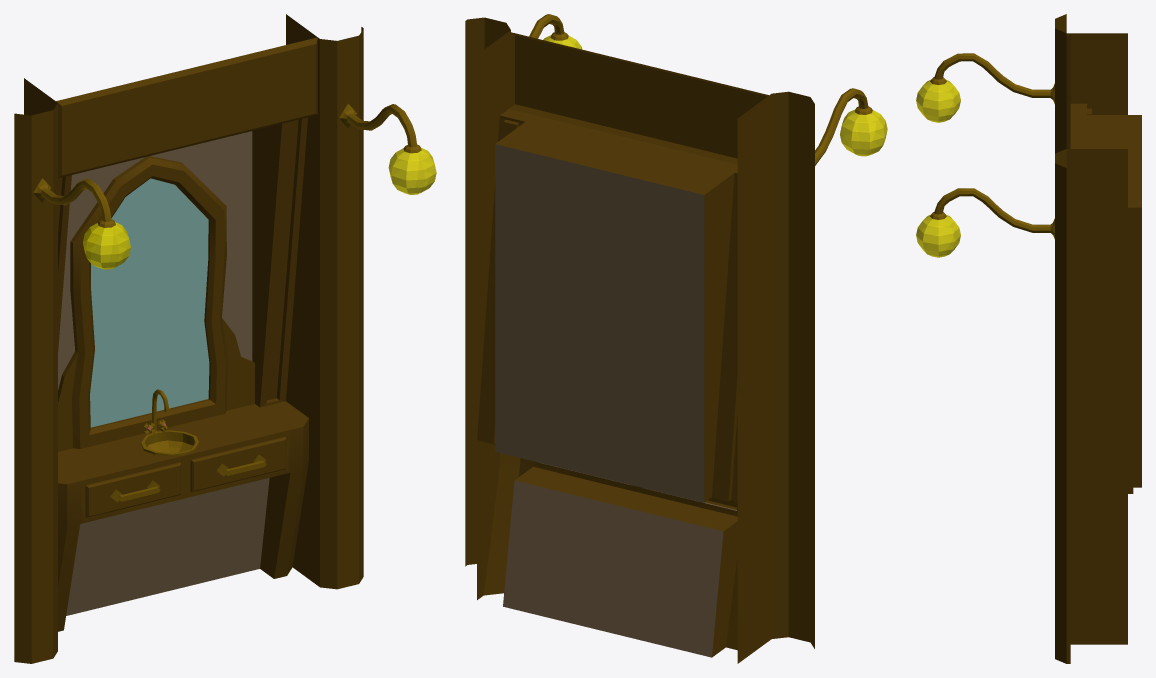
The model's file is ModuloLavabo.fbx.
3 views of the same model, side by side, from view 1: azimuth 30°, elevation 25°; view 2: azimuth 150°, elevation 25°; view 3: azimuth 270°, elevation 25° (orthographic). The views are drawn at different scales.
Parts seen in each view (by area): view 1: ModuloLavabo2; view 2: ModuloLavabo2; view 3: ModuloLavabo2.
Part boxes in pixels (x1,y1,x2,y2): ModuloLavabo2: [14, 14, 436, 663]; ModuloLavabo2: [465, 14, 887, 663]; ModuloLavabo2: [916, 14, 1141, 663].
Size of the model in its own units: 2 by 3 by 1.24.
